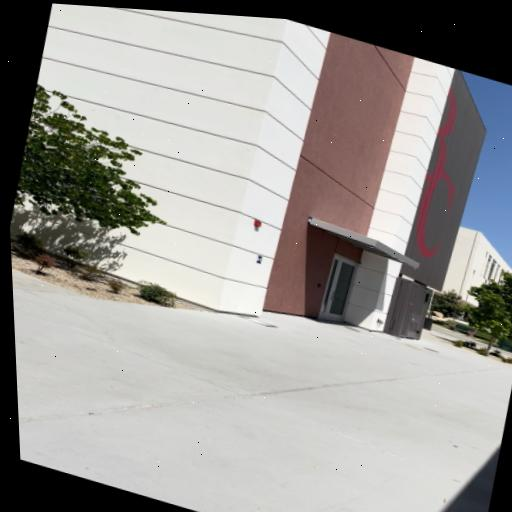target2: (255, 255, 265, 265)
